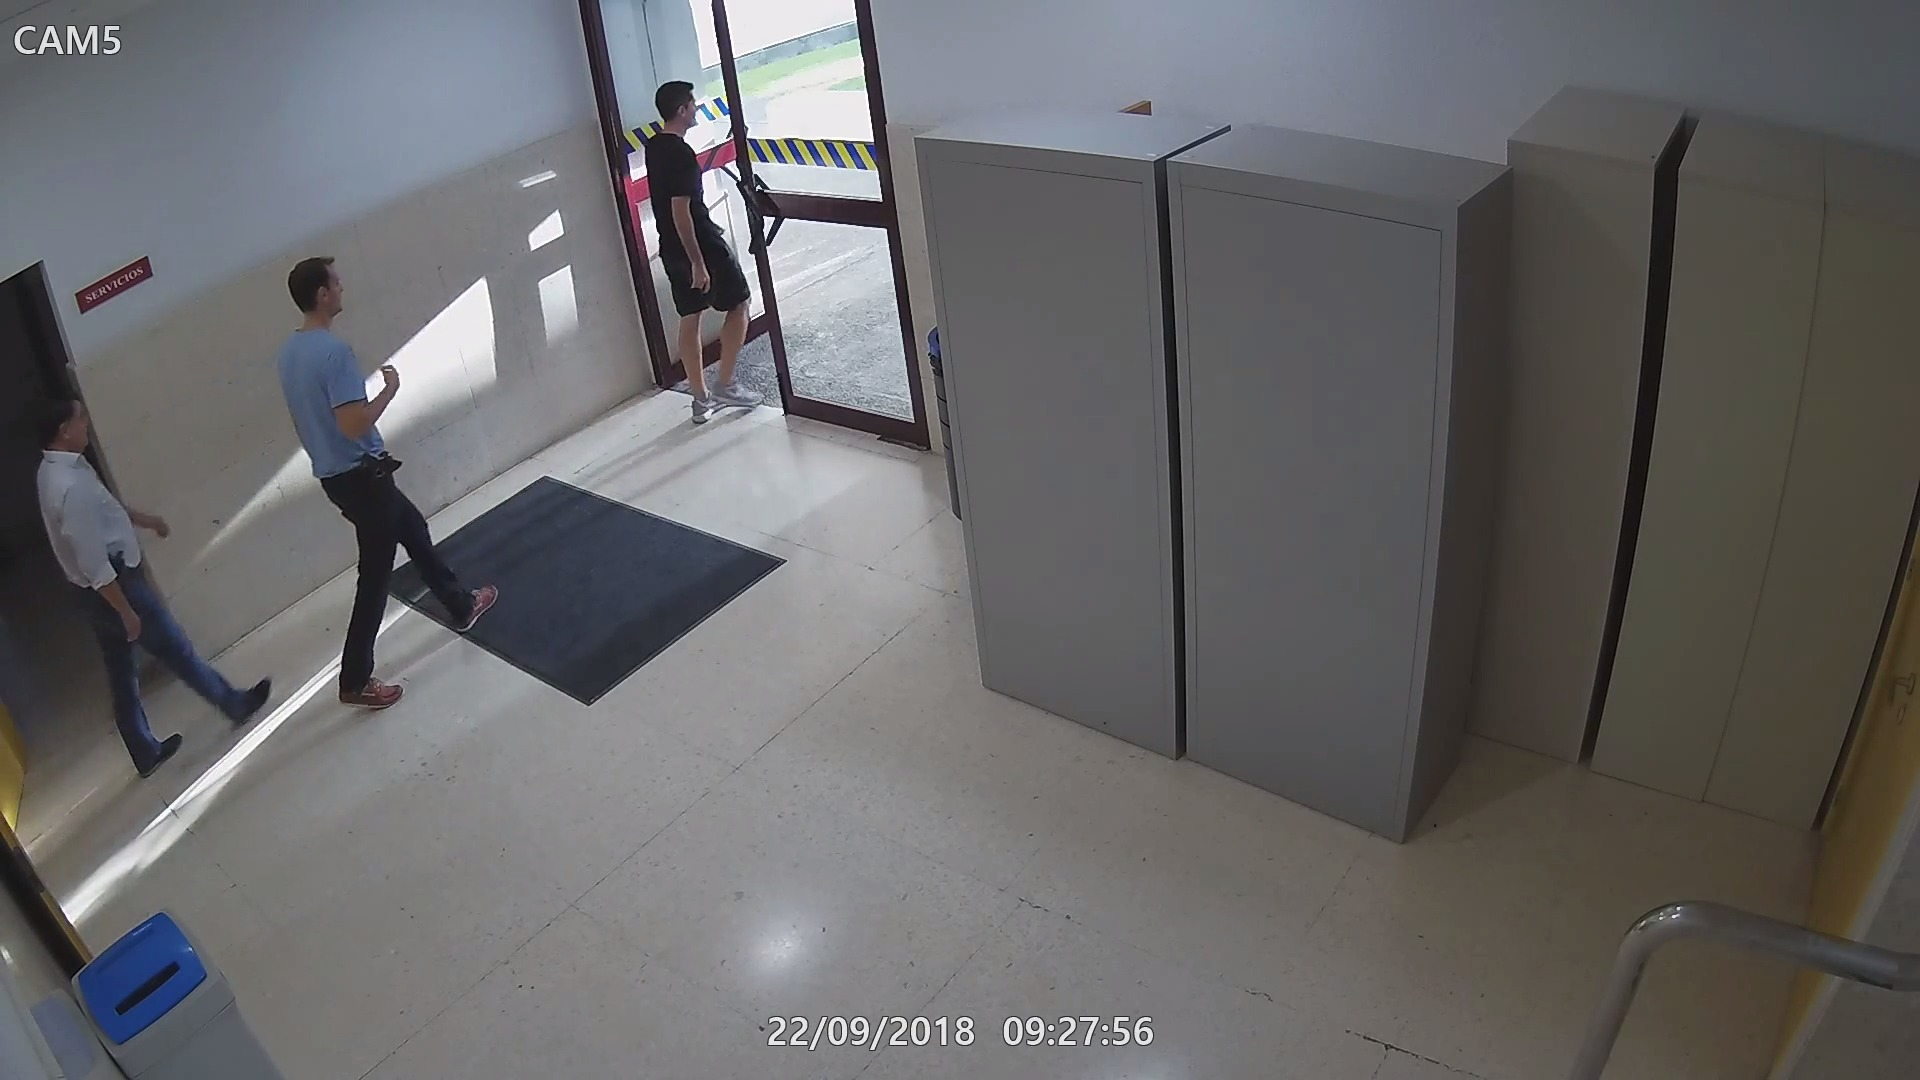Handgun: (357, 452, 400, 502), (684, 269, 723, 313), (105, 549, 131, 582)
